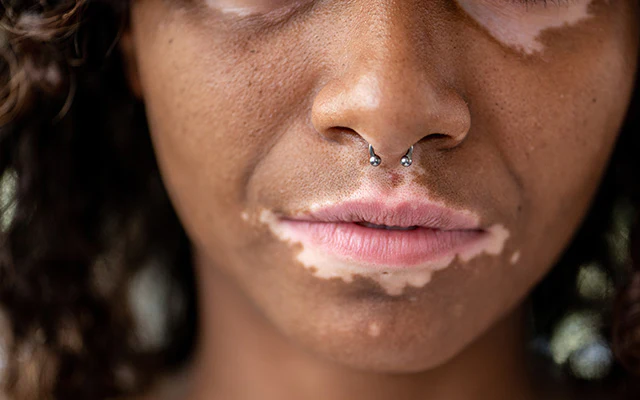Vitiligo: (250, 133, 532, 318)
